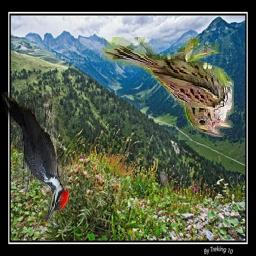Sparrow: (102, 37, 234, 137)
Woodpecker: (3, 92, 70, 222)
